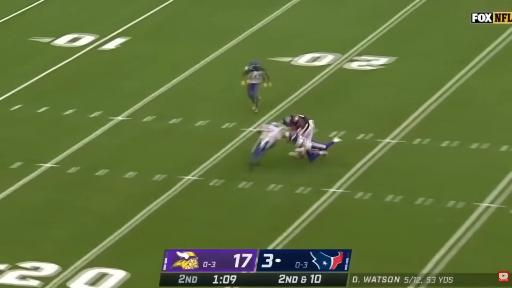Helmet: (249, 61, 261, 70), (289, 131, 298, 142), (283, 116, 291, 126)
Jersey: (257, 123, 286, 149), (291, 115, 314, 141), (244, 66, 266, 83), (295, 135, 312, 149)
Player: (250, 123, 289, 167), (242, 61, 271, 112), (290, 133, 341, 161), (283, 115, 315, 141)
